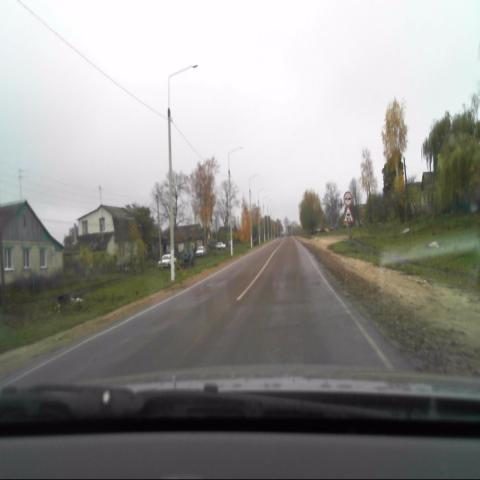1_15: (343, 208, 354, 223)
3_20: (344, 190, 352, 206)
